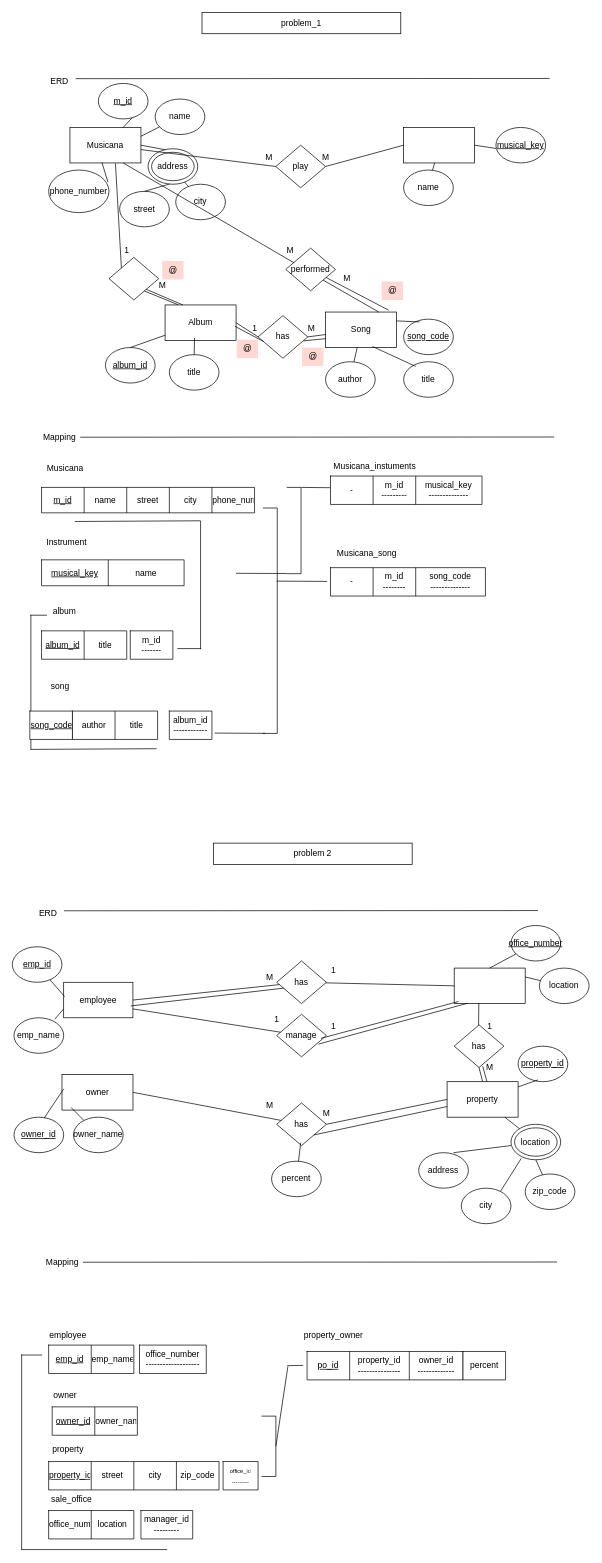
This 602x1563 diagram has some shape labels left out. Each missing label, with the centre of its shape:
"Instruments" goes at point (439, 145).
"produce" goes at point (133, 278).
"sales_office" goes at point (489, 985).
